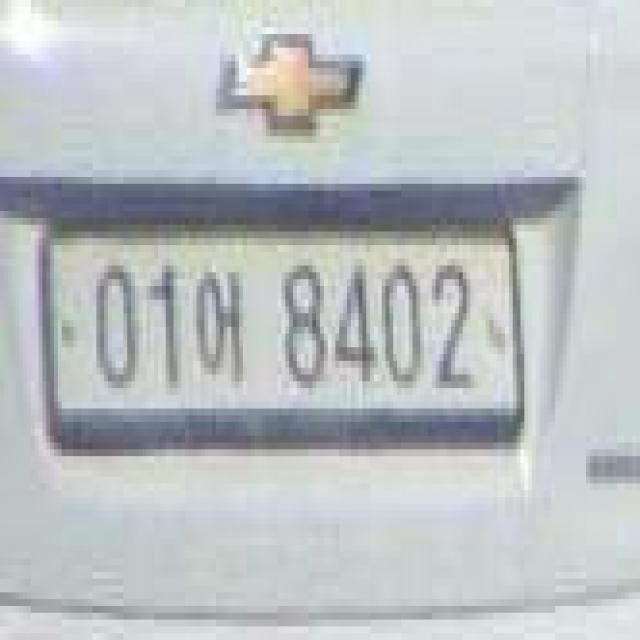illegal_plate: (40, 204, 523, 463)
